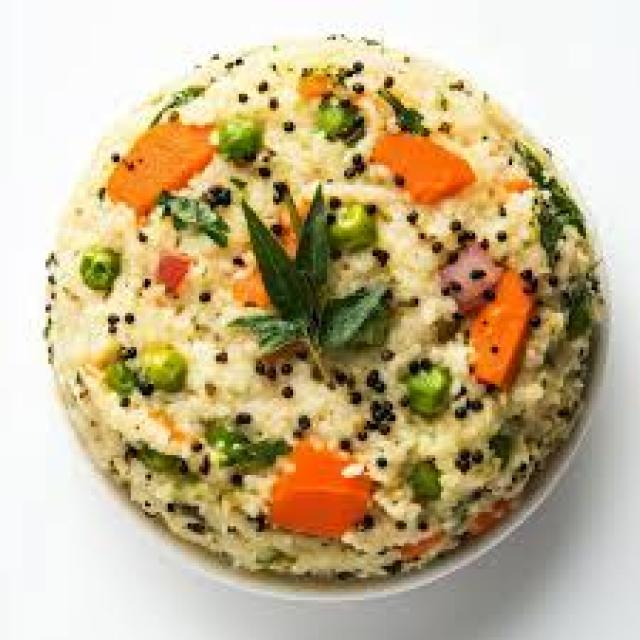UPMA: (37, 31, 594, 575)
